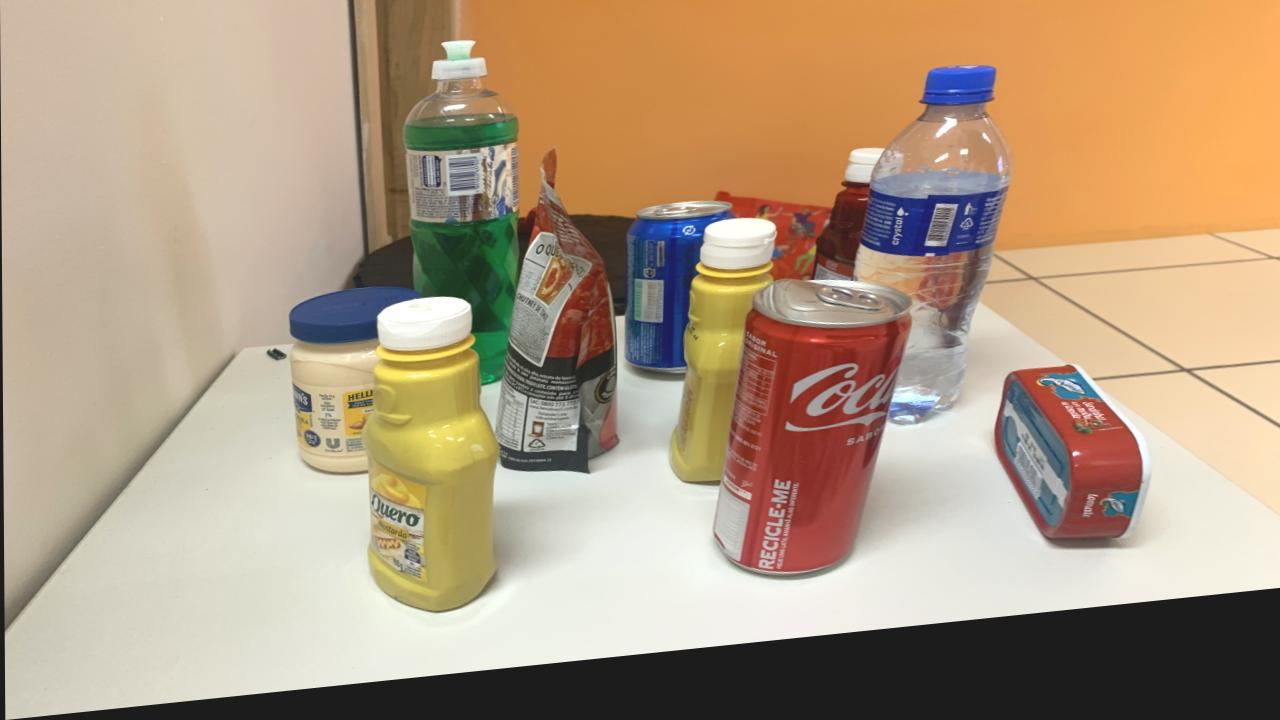Coke-Drinks: (713, 296, 912, 592)
Detergent-Cleanup_Items: (403, 50, 519, 394)
Ketchup-Pantry_Items: (812, 166, 881, 299)
Mayonnaise-Pantry_Items: (289, 295, 419, 481)
Mustard-Pantry_Items: (363, 305, 498, 621), (668, 233, 777, 498)
Tomato_Sauce-Pantry_Items: (495, 165, 618, 485)
Tonic-Drinks: (625, 215, 734, 388)
Tuna_Can-Pantry_Items: (993, 389, 1149, 563)
Water_Bottle-Drinks: (852, 86, 1012, 444)
